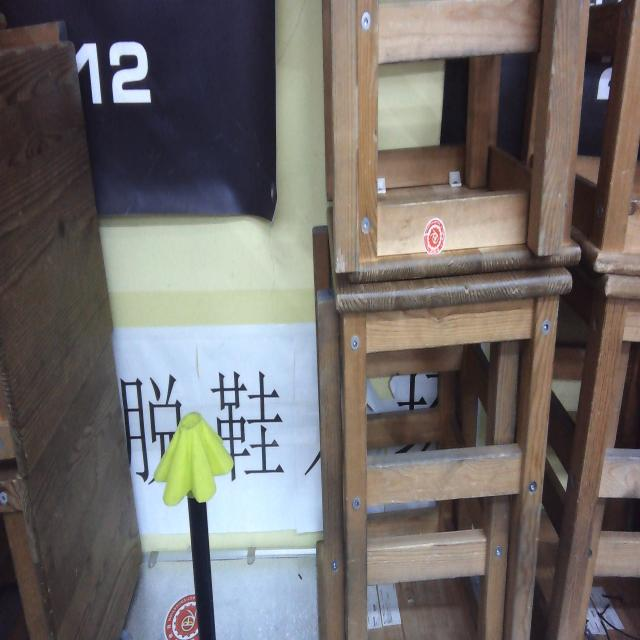Yellow-Stake-Head: (153, 412, 234, 507)
